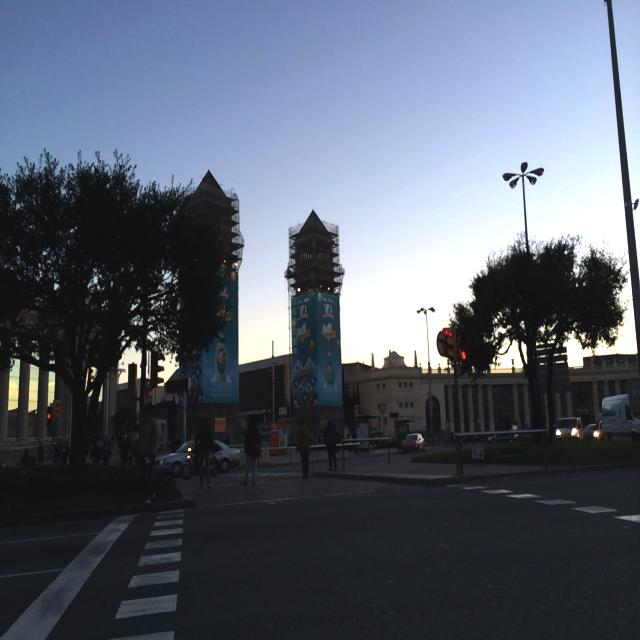car: (154, 439, 243, 477), (599, 393, 640, 444), (554, 416, 583, 440), (401, 432, 426, 454), (578, 422, 601, 441)
